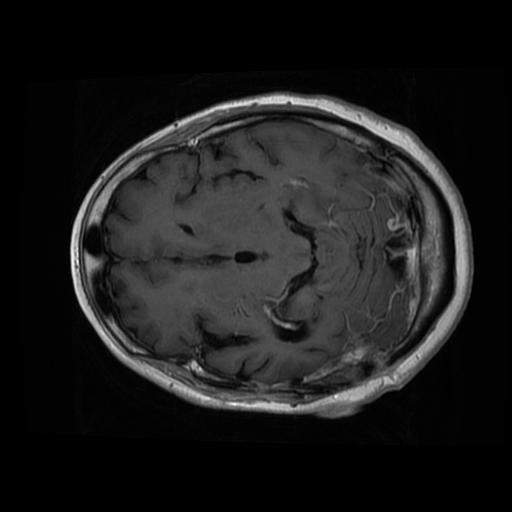glioma: (301, 290, 404, 384)
